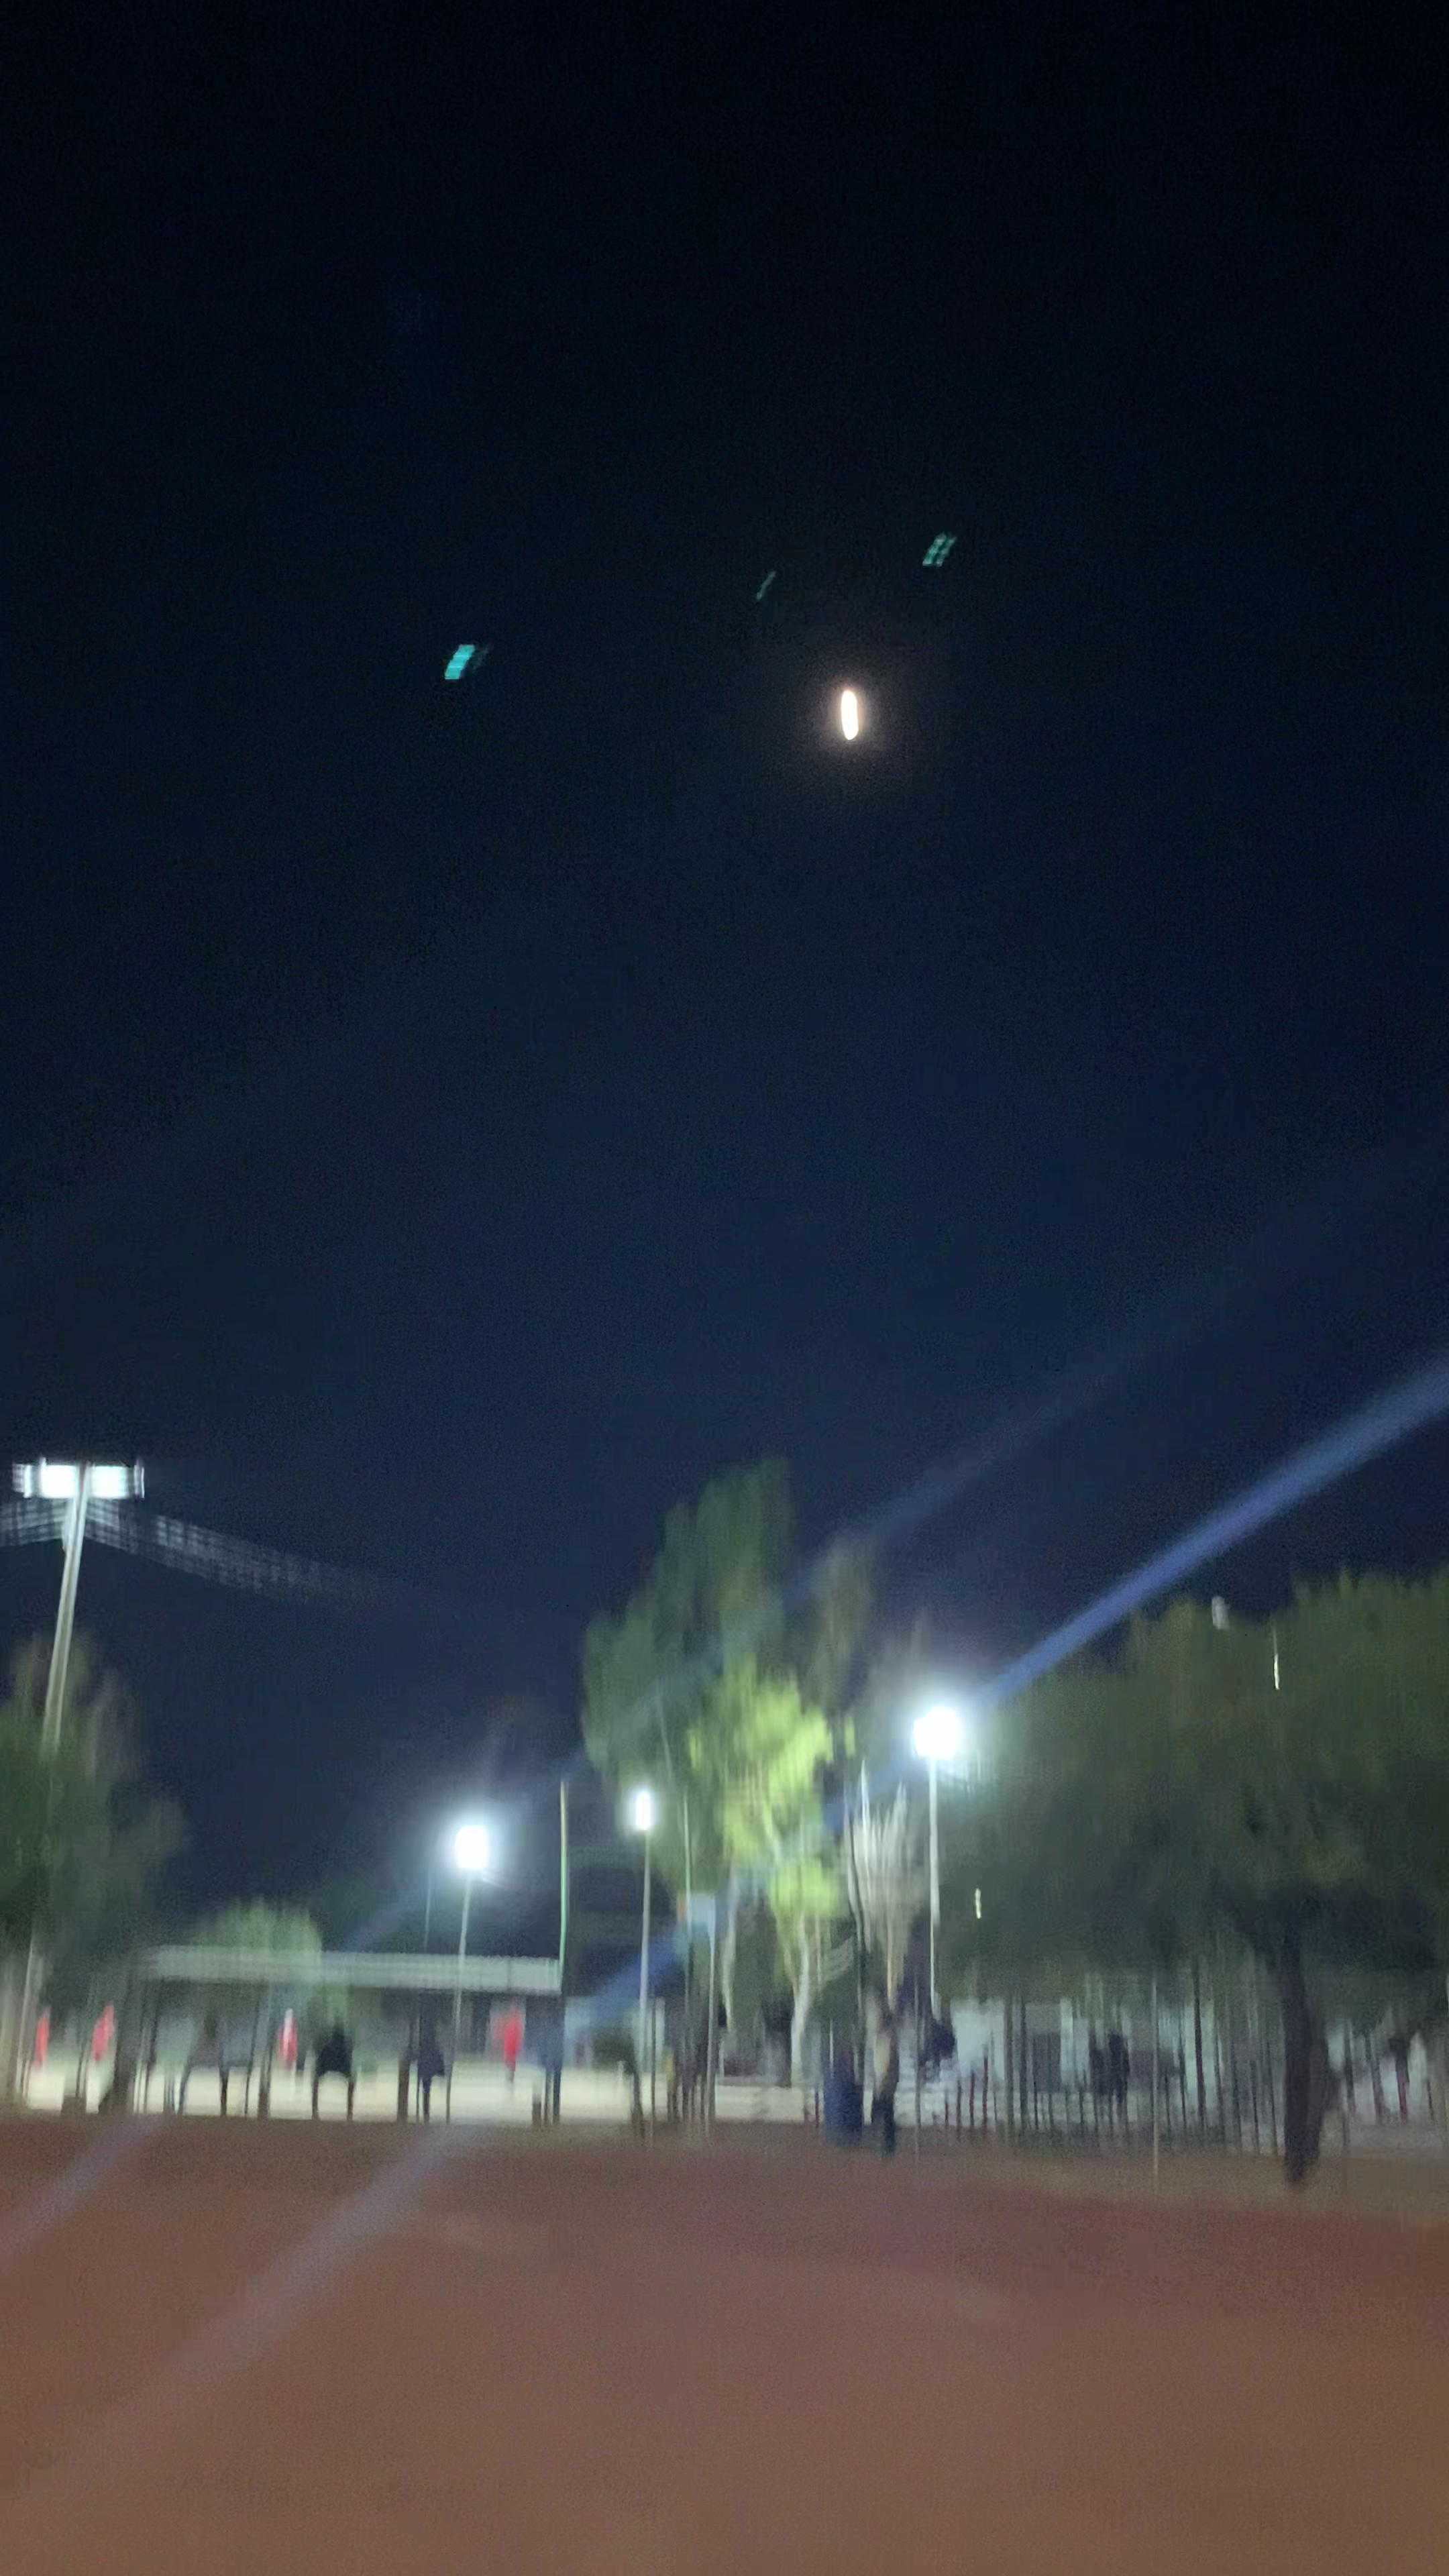moon: (801, 658, 902, 775)
